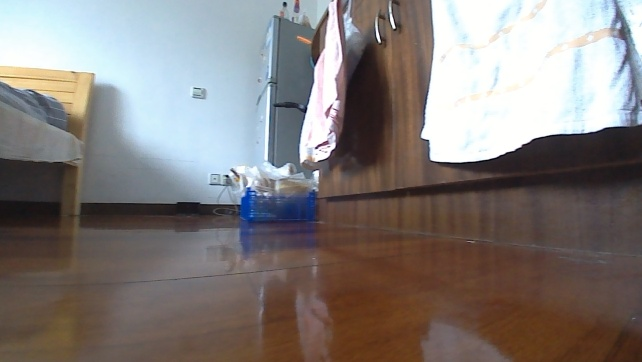bed1: (0, 62, 95, 219)
refrigerator1: (249, 11, 319, 166)
wire: (210, 187, 239, 219)
